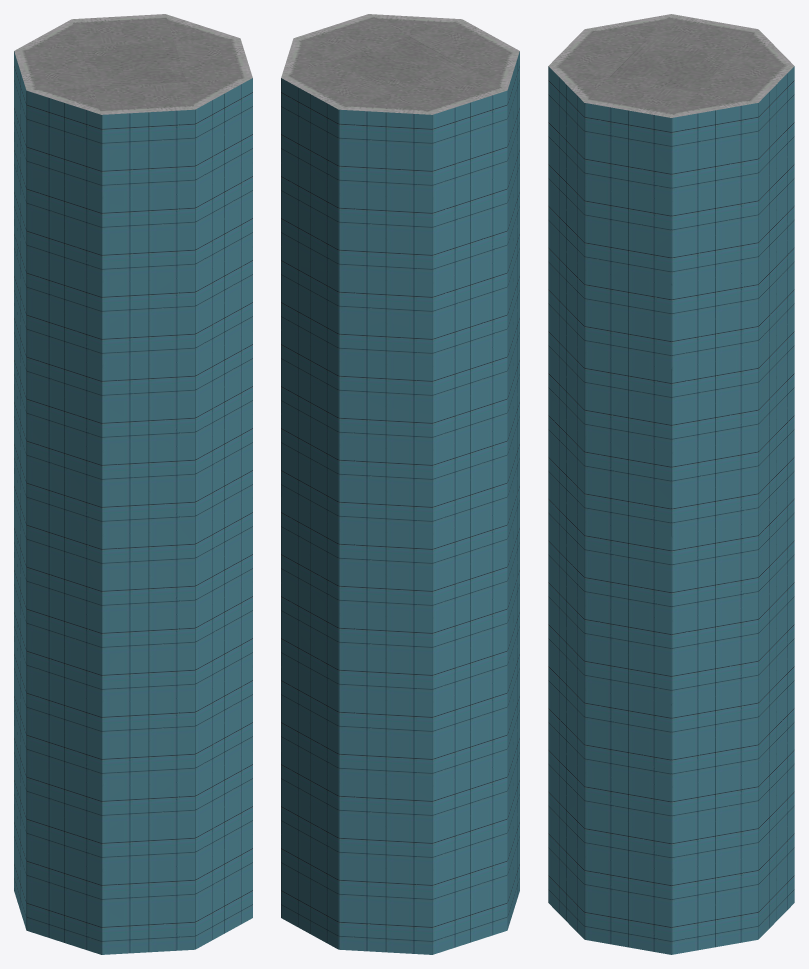
Rendered from Building_Octagon.FBX.
3 renders of one model, left to right at view 1: azimuth 30°, elevation 25°; view 2: azimuth 150°, elevation 25°; view 3: azimuth 270°, elevation 25°, orthographic.
Visible parts, largest first — view 1: Building_octagon; view 2: Building_octagon; view 3: Building_octagon.
Boxes of the visible parts, x1=… form: Building_octagon: x1=14, y1=14, x2=252, y2=954; Building_octagon: x1=281, y1=14, x2=519, y2=954; Building_octagon: x1=548, y1=14, x2=794, y2=954.
Bounding box in the file's own units: 43.73 × 164 × 43.73.
